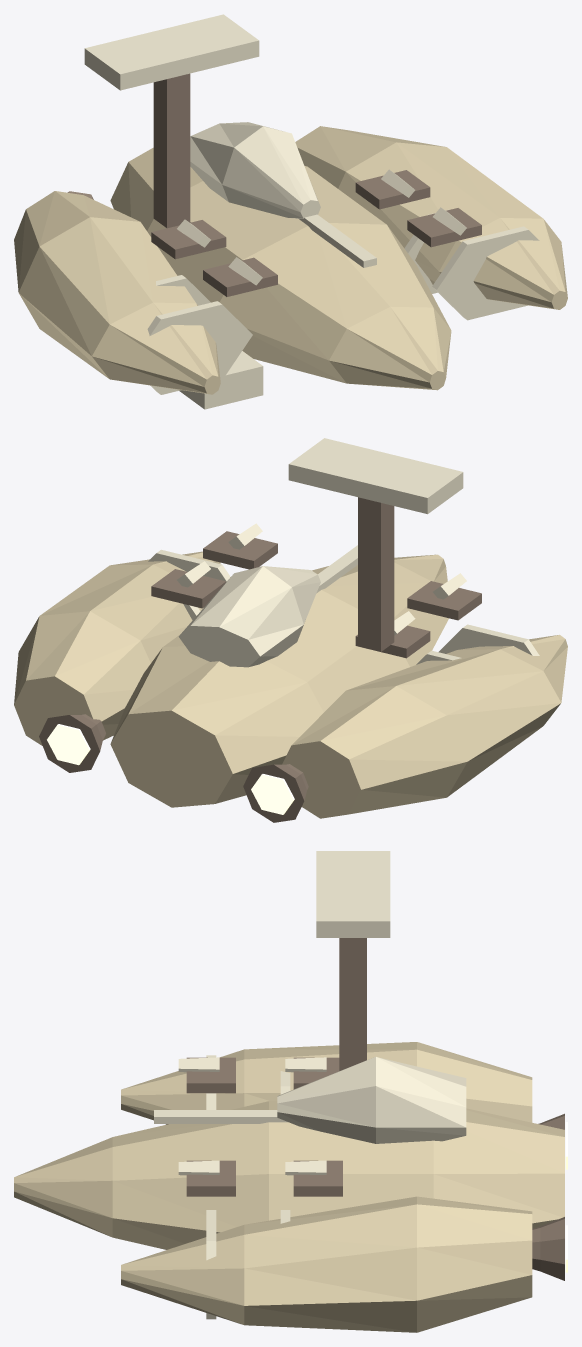
3 renders of one model, top to bottom at view 1: azimuth 30°, elevation 25°; view 2: azimuth 150°, elevation 25°; view 3: azimuth 270°, elevation 25°, orthographic. The views are drawn at different scales.
Size of the model in its own units: 12.16 by 7.65 by 12.
